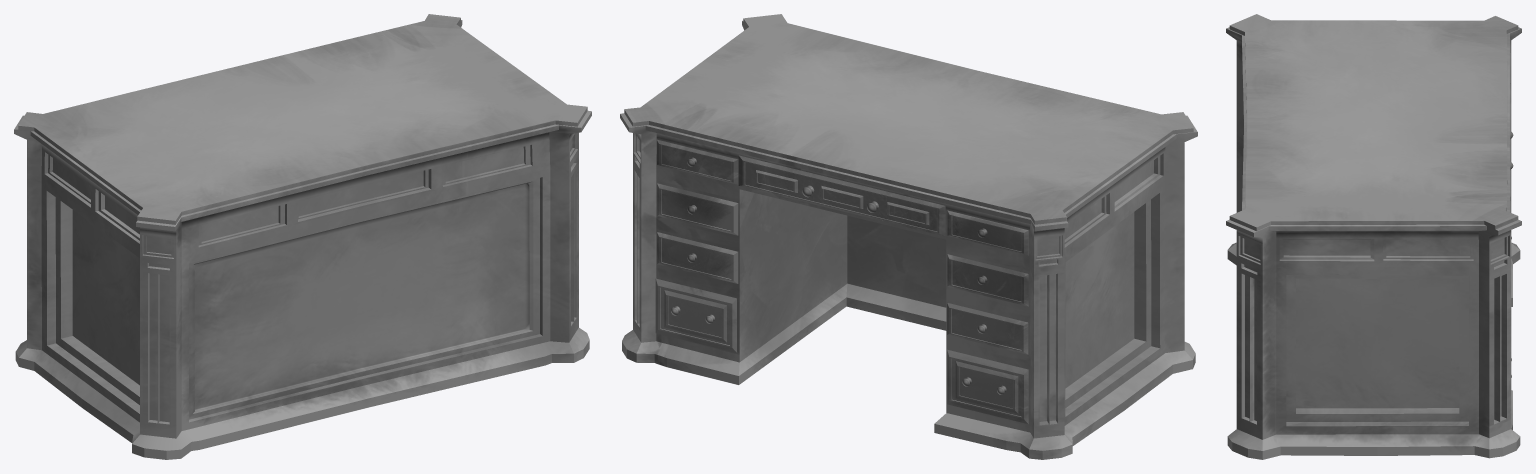
Rendered from desk.fbx.
3 renders of one model, left to right at view 1: azimuth 30°, elevation 25°; view 2: azimuth 150°, elevation 25°; view 3: azimuth 270°, elevation 25°, orthographic. The views are drawn at different scales.
Visible parts, largest first — view 1: desk_body; view 2: desk_body, middle_drawer, right_drawer_bottom, left_drawer_bottom, right_drawer_2, left_drawer_2, left_drawer_3, right_drawer_3, left_drawer_top, right_drawer_top; view 3: desk_body.
Boxes of the visible parts, x1,y1,x2,y2 form: desk_body: [14, 14, 591, 459]; desk_body: [620, 14, 1197, 459]; middle_drawer: [738, 155, 945, 236]; right_drawer_bottom: [947, 349, 1028, 423]; left_drawer_bottom: [655, 278, 736, 352]; right_drawer_2: [947, 254, 1028, 306]; left_drawer_2: [657, 183, 738, 235]; left_drawer_3: [657, 232, 738, 283]; right_drawer_3: [947, 303, 1028, 354]; left_drawer_top: [657, 139, 738, 184]; right_drawer_top: [947, 210, 1028, 255]; desk_body: [1226, 14, 1521, 459].
Size of the model in its own units: 207 by 104 by 120.
Materials: 2 (2 with a texture image).
